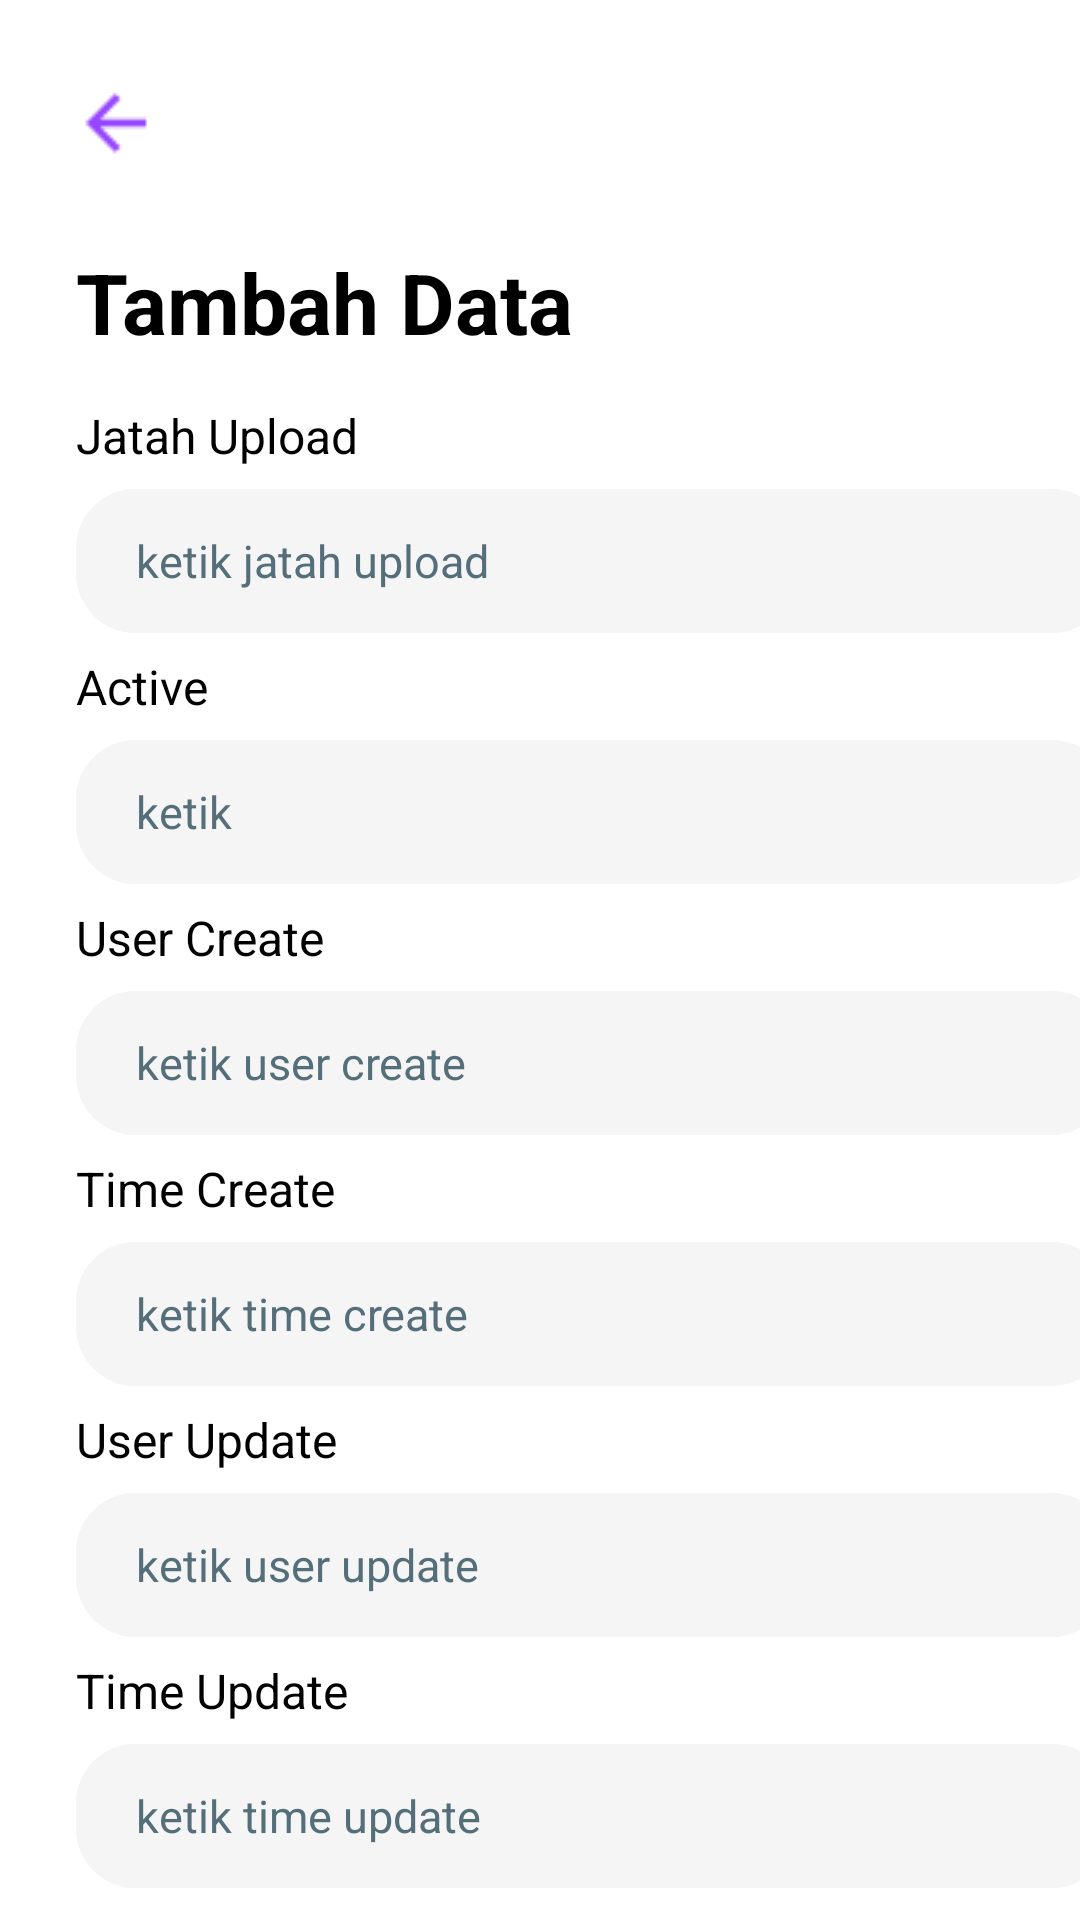

Locate icon controls on the screen. Image size 1080px x 1920px, boxes as (x1, y1, x2, y2).
arrow left: (85, 92, 147, 154)
